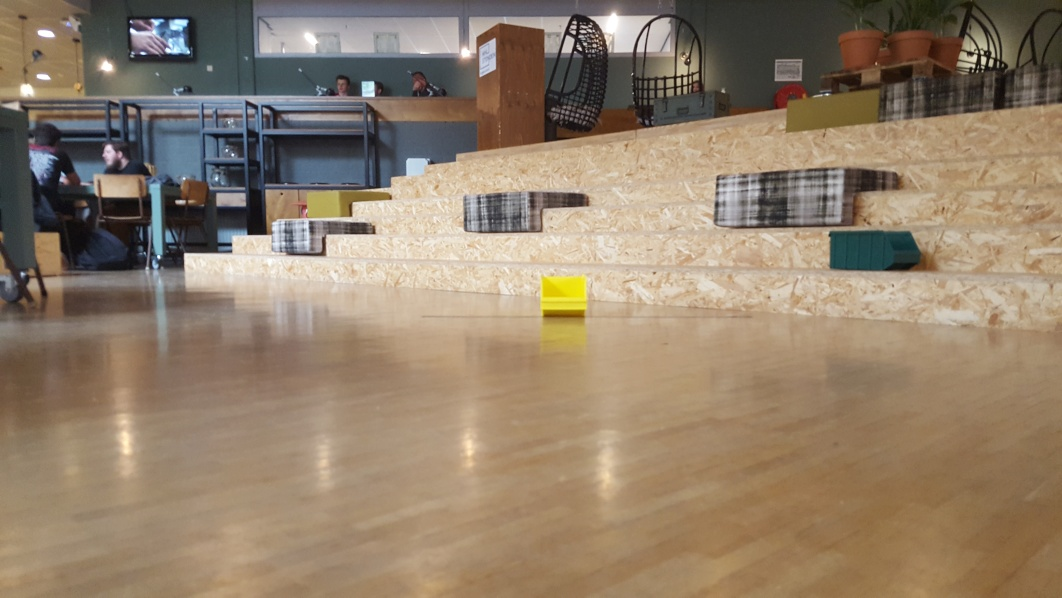tray: (817, 227, 927, 269), (534, 268, 590, 316)
